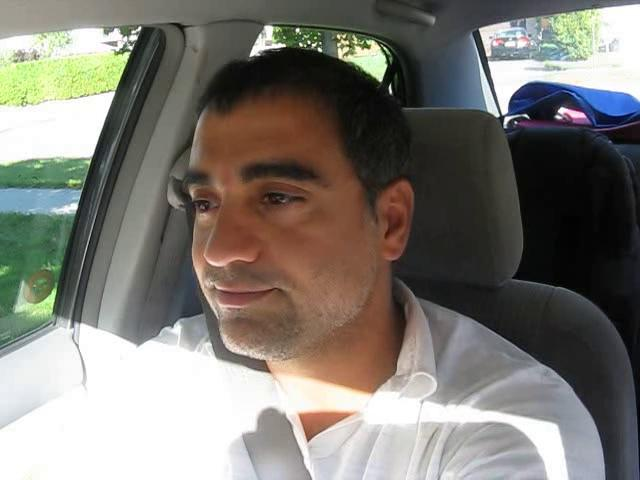no_yawn: (189, 272, 301, 324)
open_eyeL: (178, 186, 230, 223)
open_eyeR: (244, 174, 328, 224)
